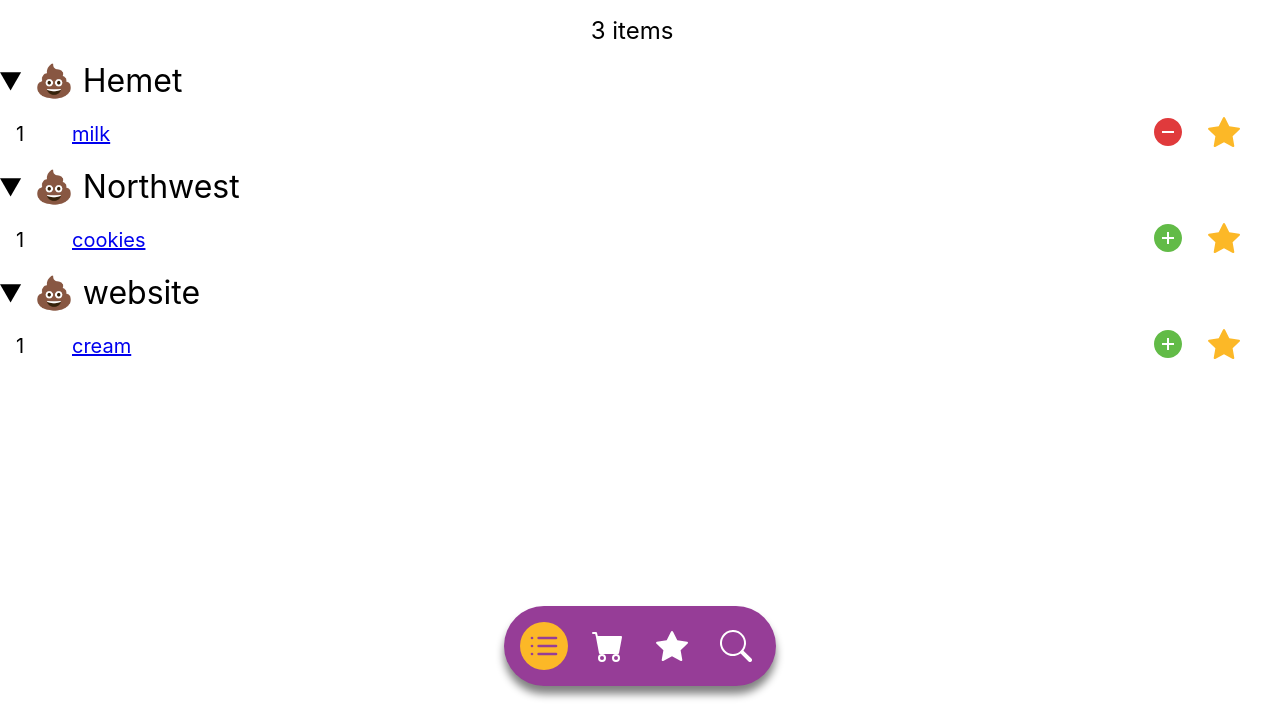
it: Groceries view should › filter items by search
This screenshot has width=1280, height=720.
Step 1. Click the button named "Search items" → (736, 646), box [720,630,752,662]
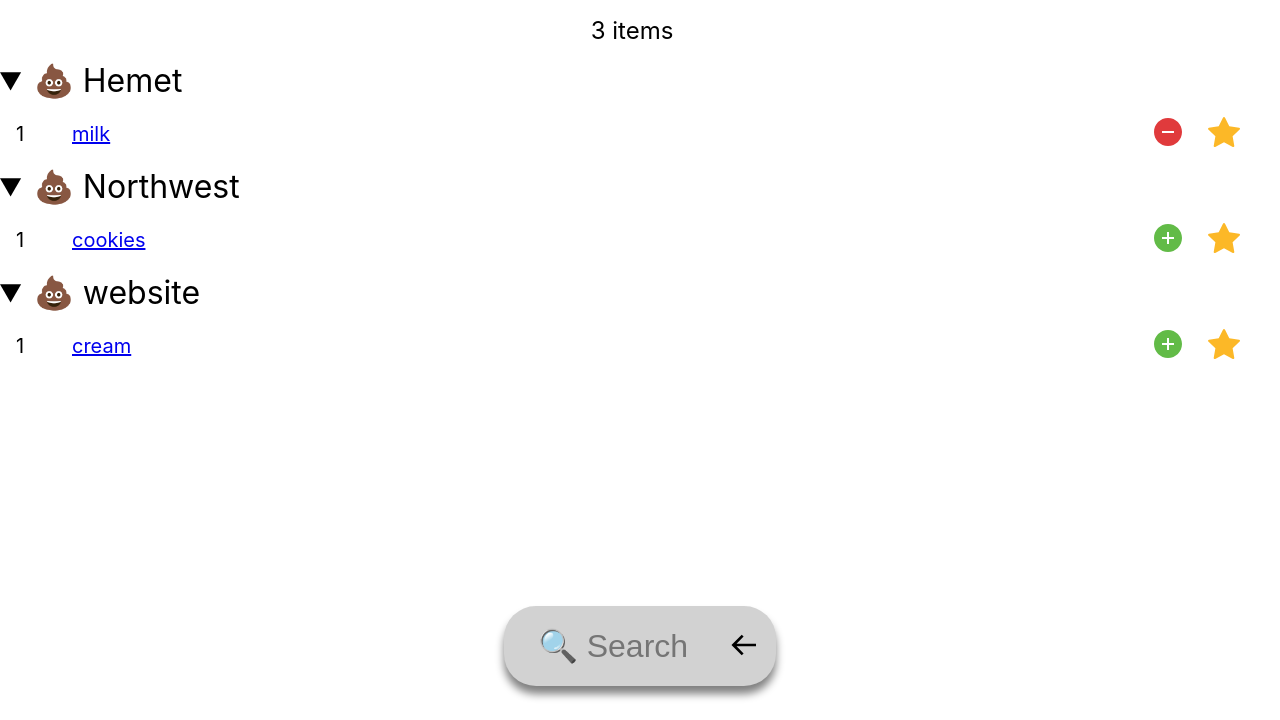
Step 2. Type "m" into the field labelled "🔍 Search" → (613, 646), box [504,606,722,686]
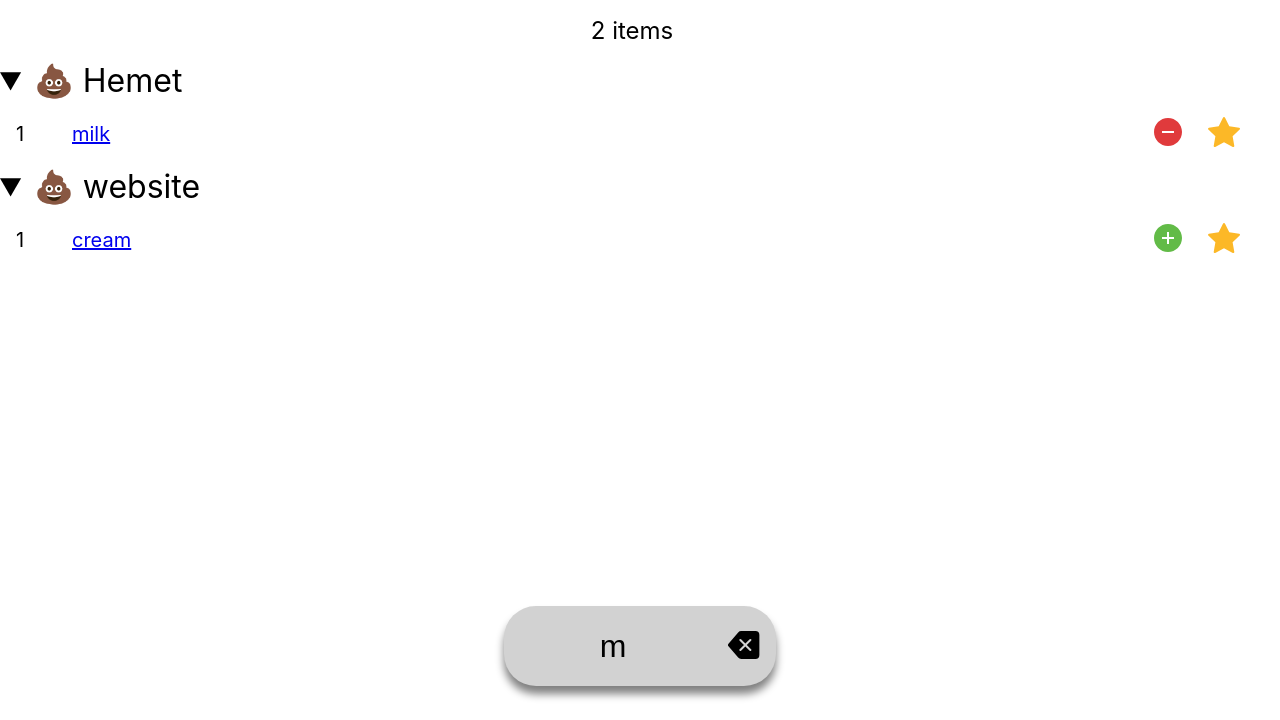
Expected: the text "cream" is shown, [72,228,131,252]
Expected: the link "cookies" is gone
